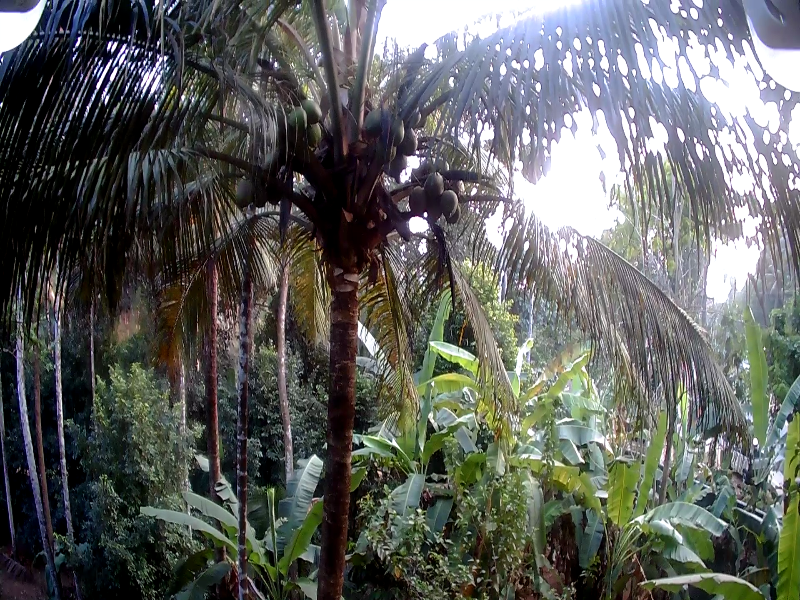coconut: (401, 127, 420, 156), (235, 173, 252, 205), (410, 187, 428, 214), (389, 117, 404, 145), (424, 171, 441, 194), (361, 113, 376, 137), (302, 125, 320, 145), (284, 108, 301, 128), (441, 195, 455, 217), (303, 106, 318, 119)
